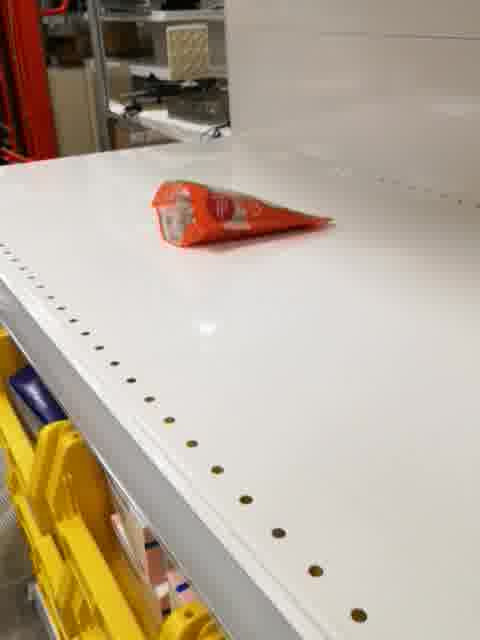whitechia: (149, 176, 336, 250)
